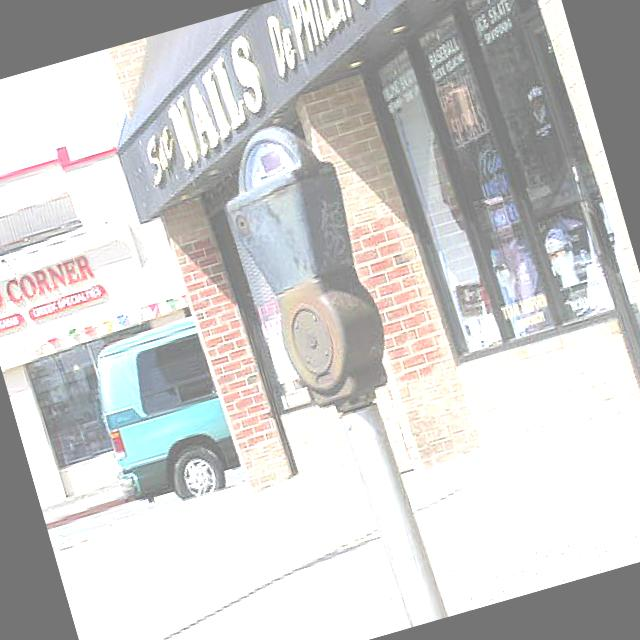Vehicle: (79, 314, 246, 516)
